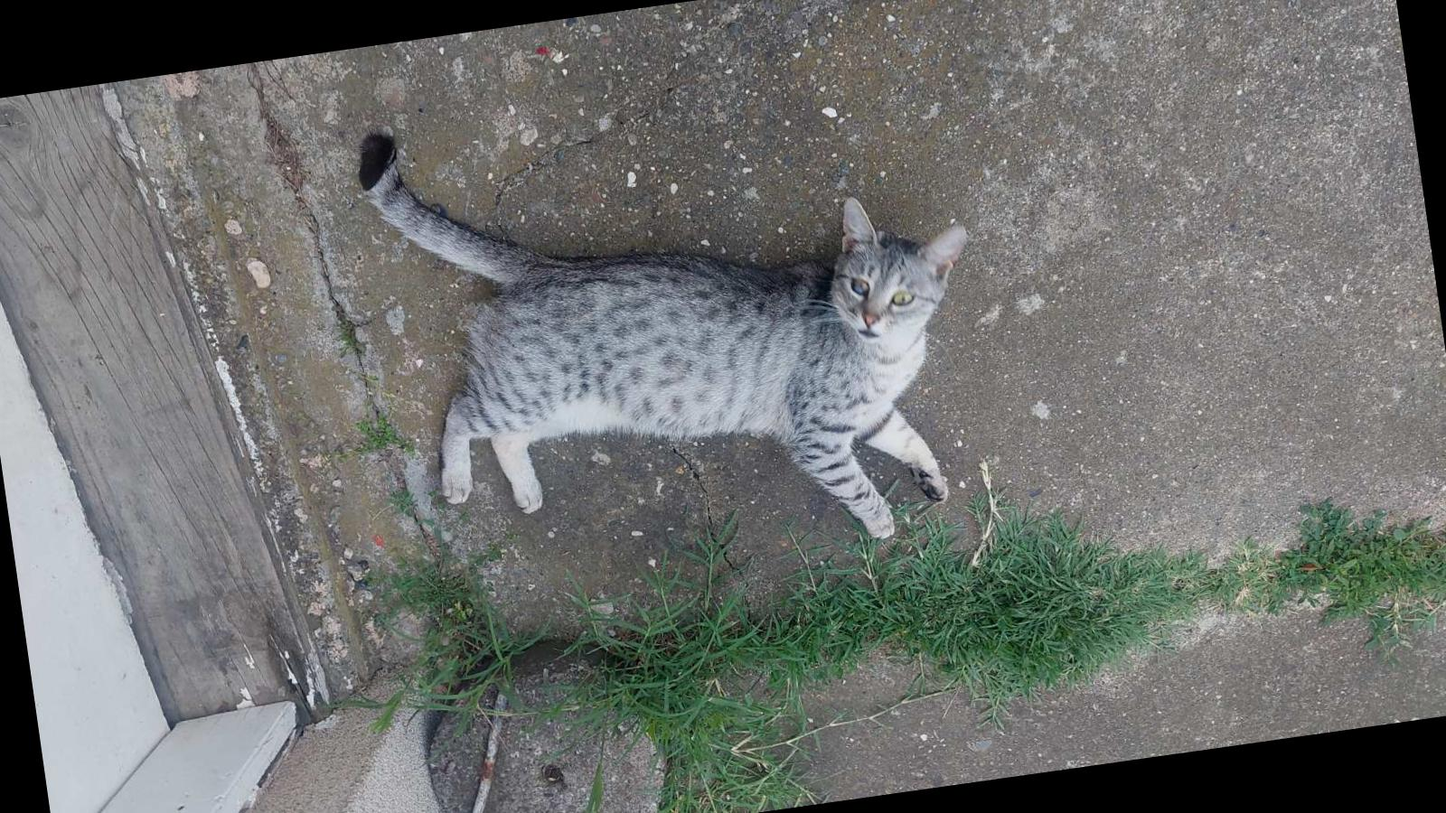macka: (354, 55, 1009, 607)
